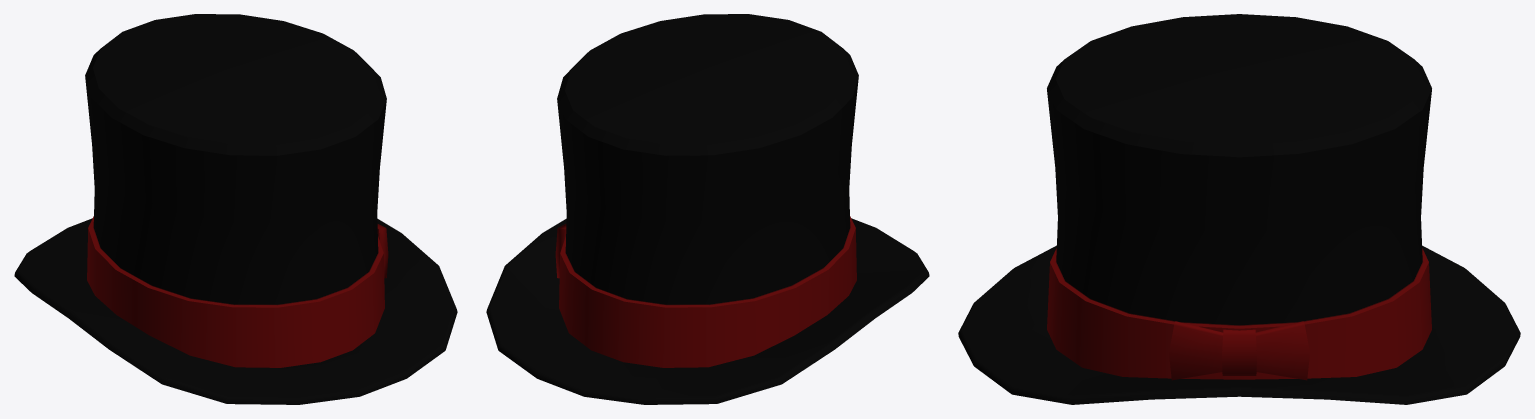
File: topHat.gltf
The picture shows the model from 3 angles, left to right: view 1: azimuth 30°, elevation 25°; view 2: azimuth 150°, elevation 25°; view 3: azimuth 270°, elevation 25°; orthographic projection. The views are drawn at different scales.
Parts seen in each view (by area): view 1: topHat; view 2: topHat; view 3: topHat.
Boxes of the visible parts, x1,y1,x2,y2 form: topHat: (14, 14, 457, 404); topHat: (486, 14, 929, 404); topHat: (958, 14, 1520, 404).
Size of the model in its own units: 0.466 by 0.3062 by 0.5969.
Materials: 1 (1 with a texture image).
